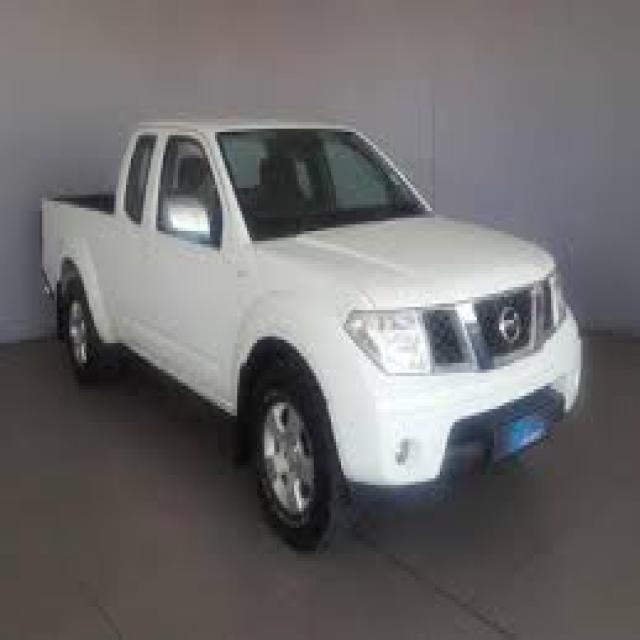Pickup Trucks: (34, 115, 590, 558)
